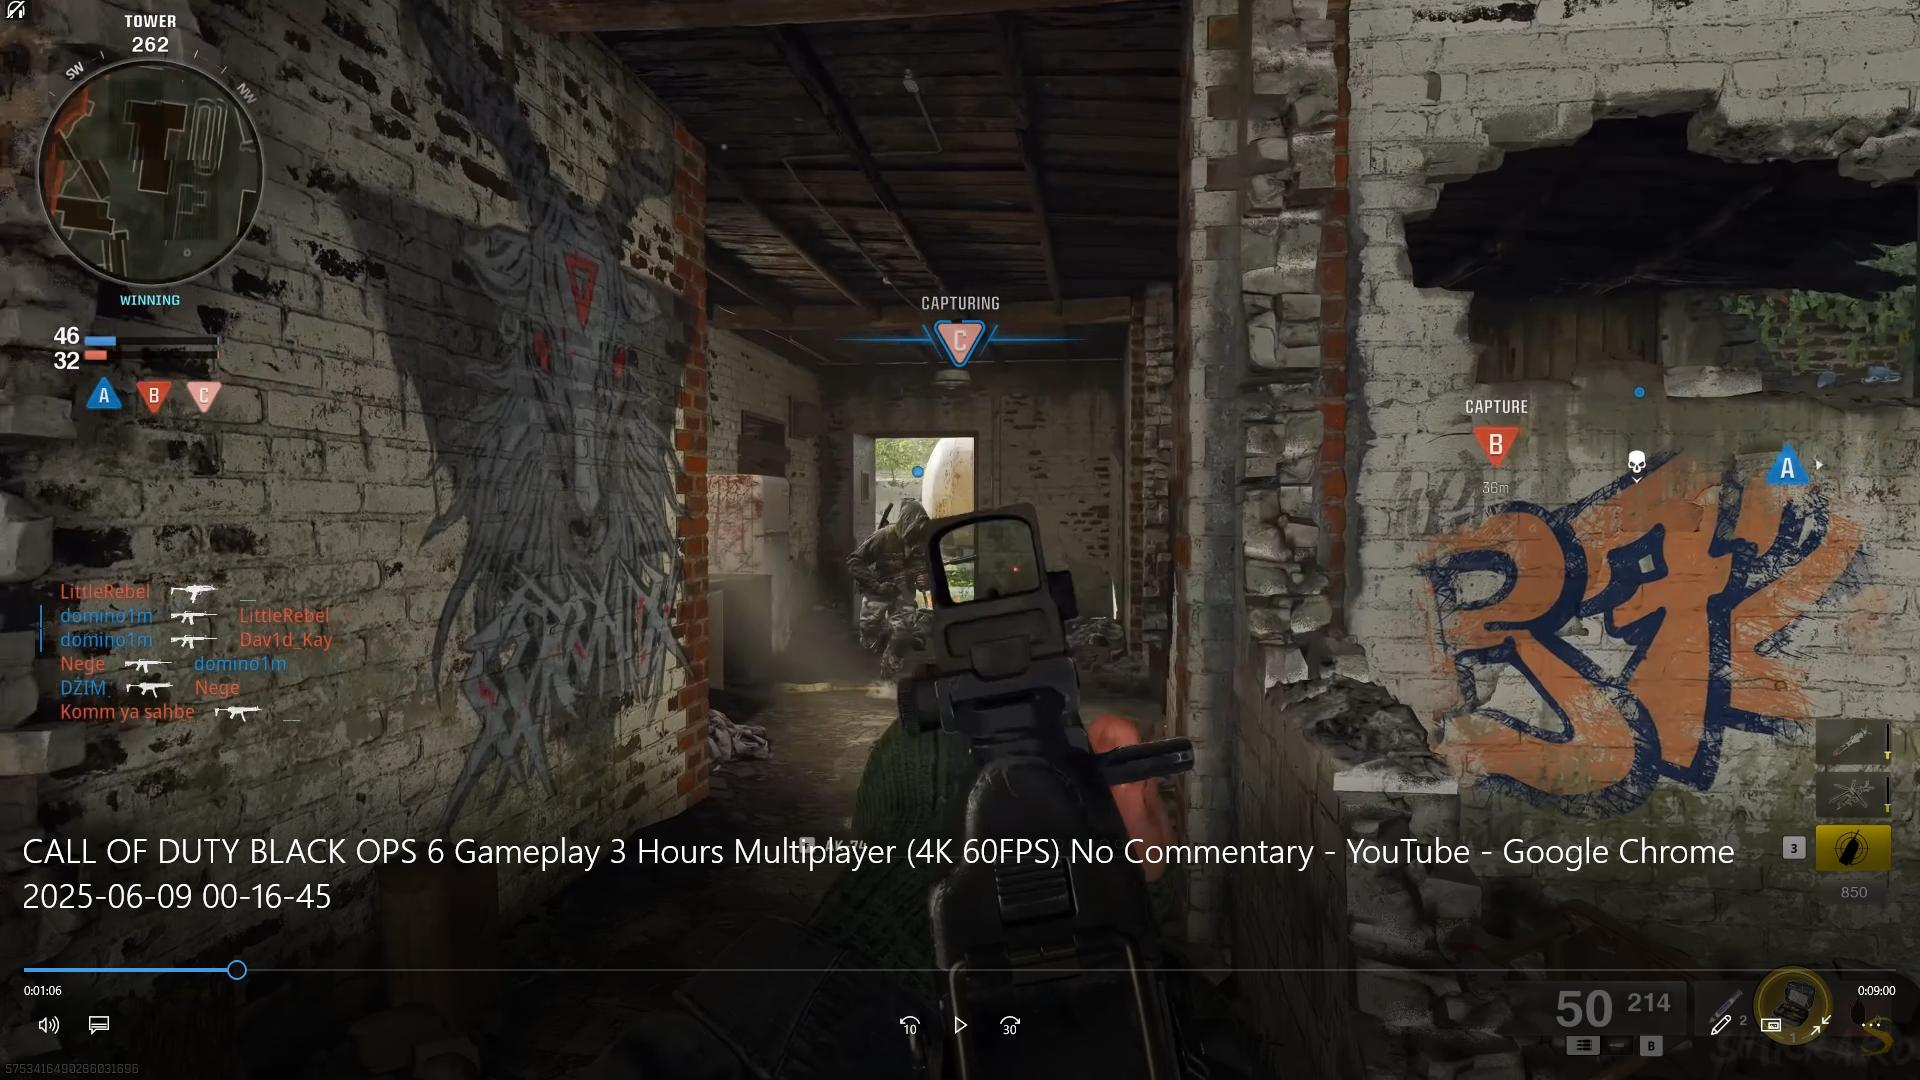Enemy: (861, 501, 930, 607)
